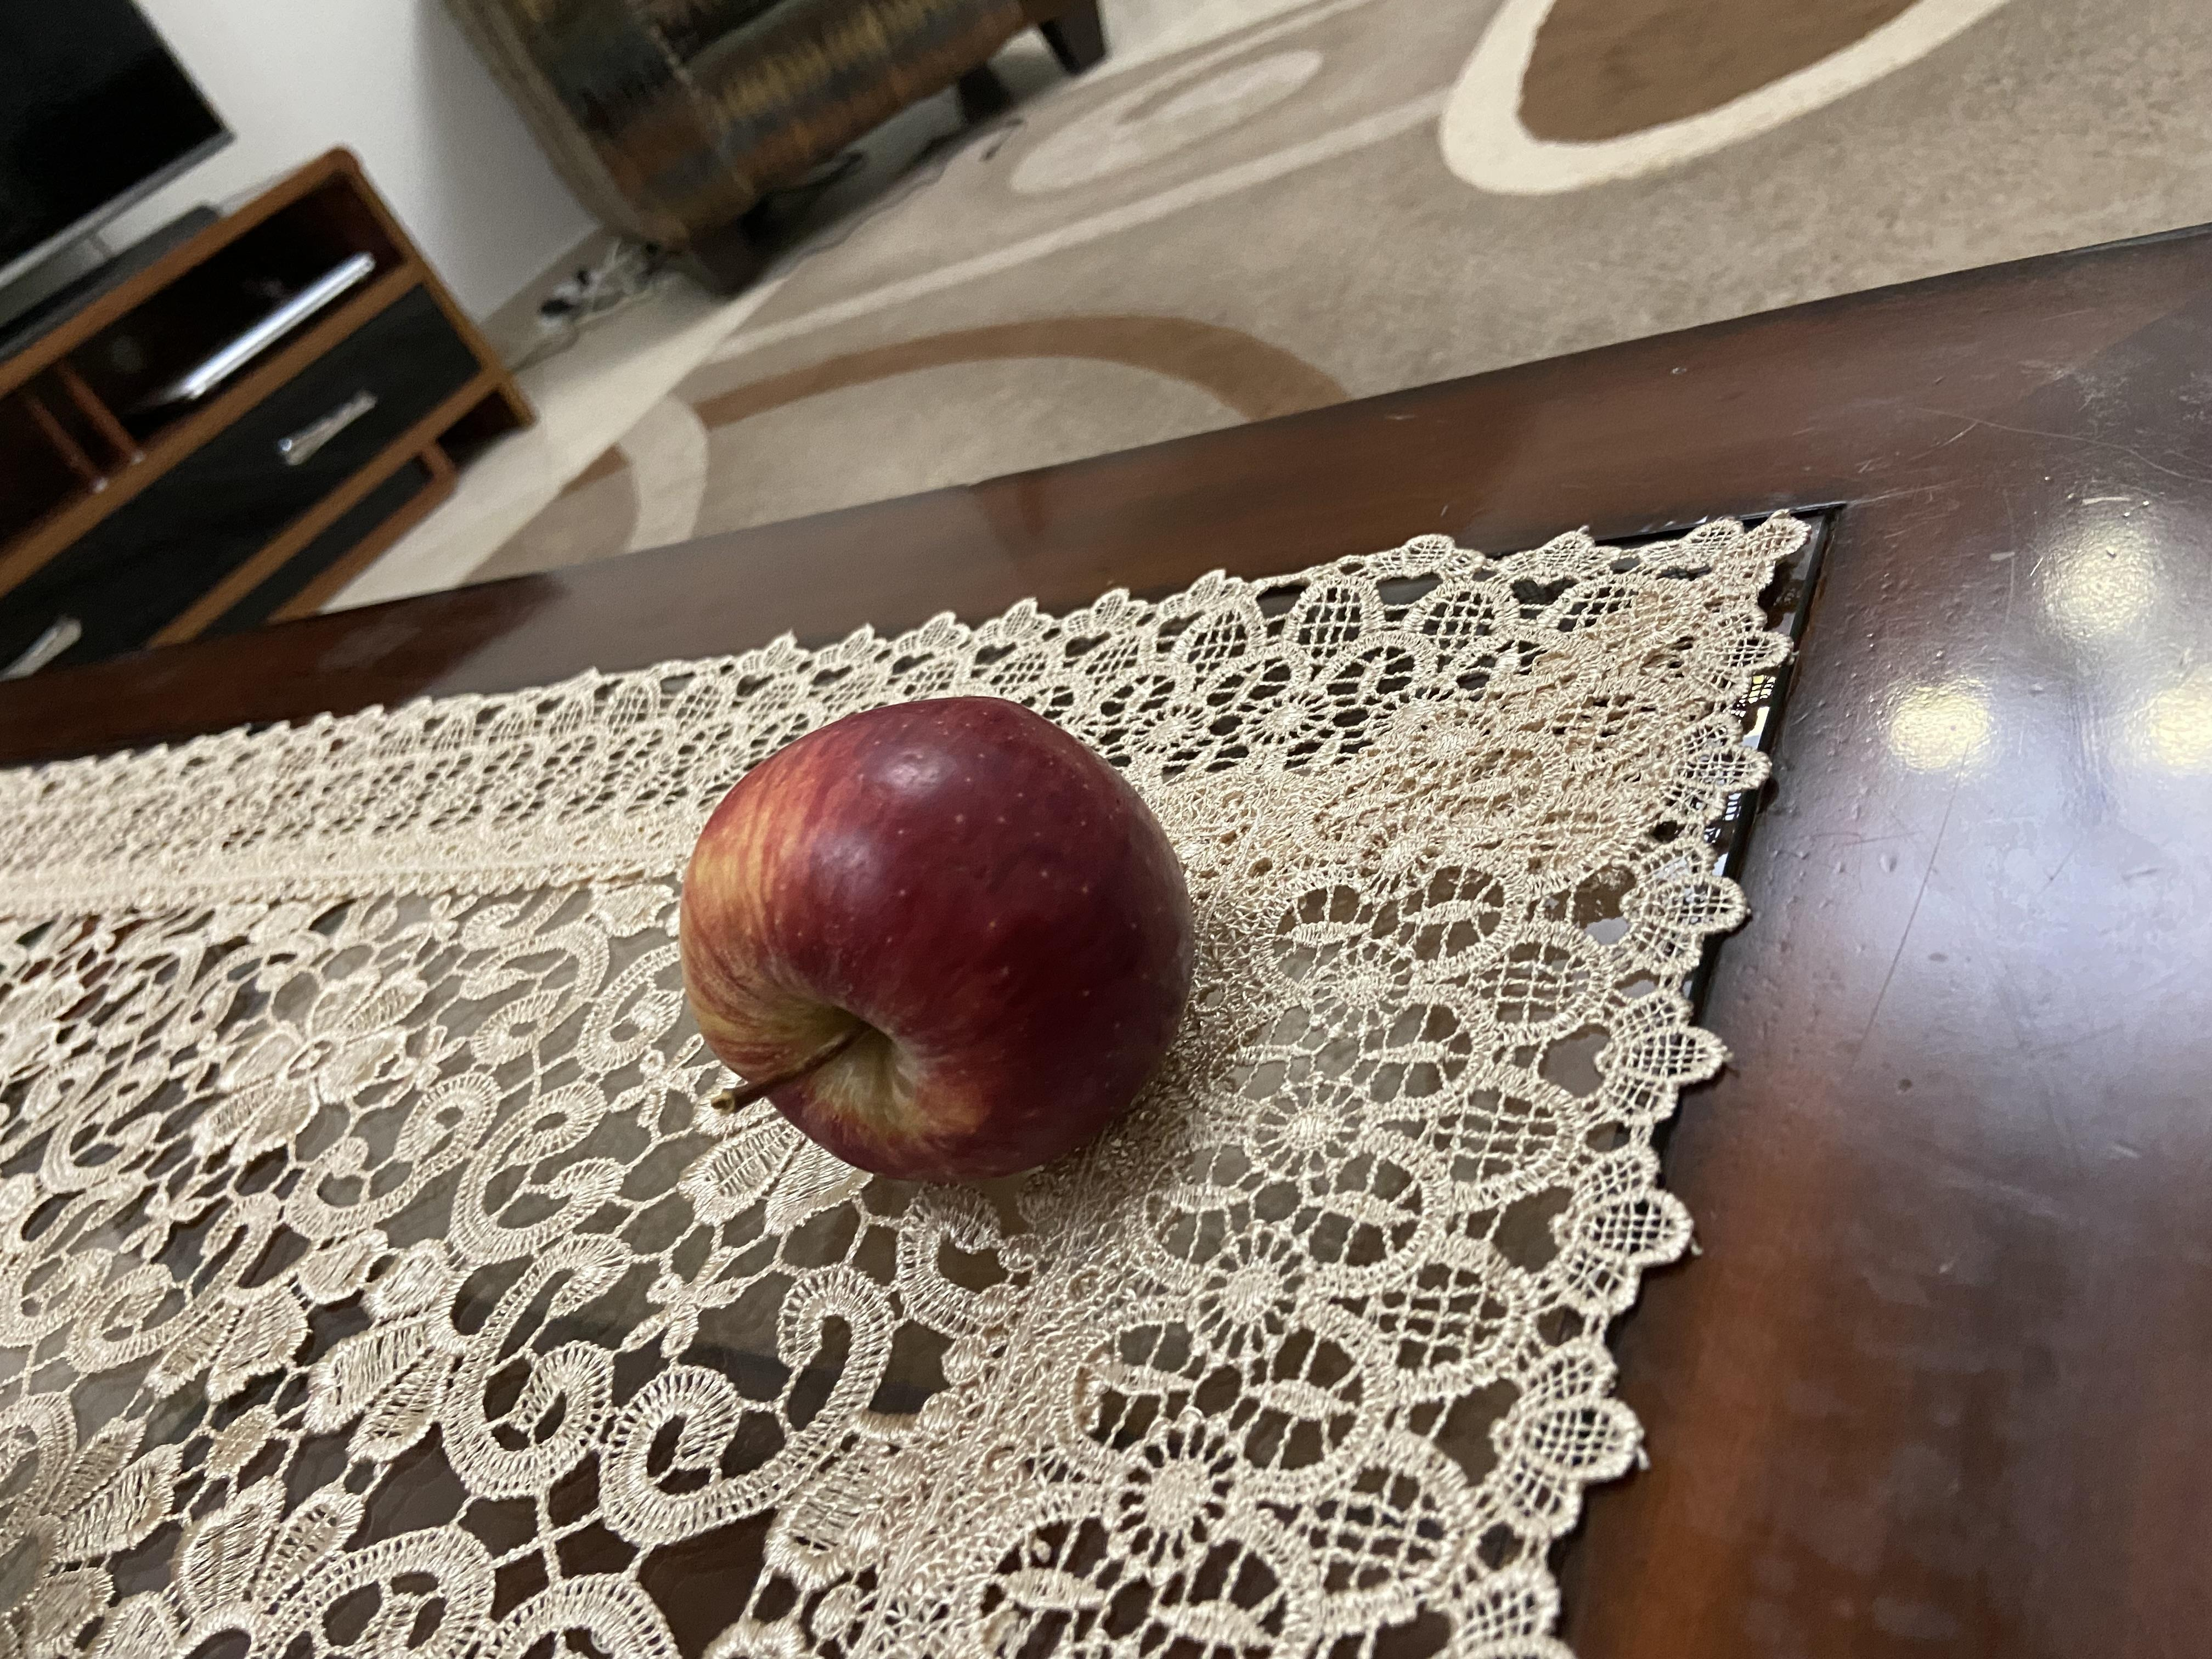Apple: (603, 498, 1303, 897)
